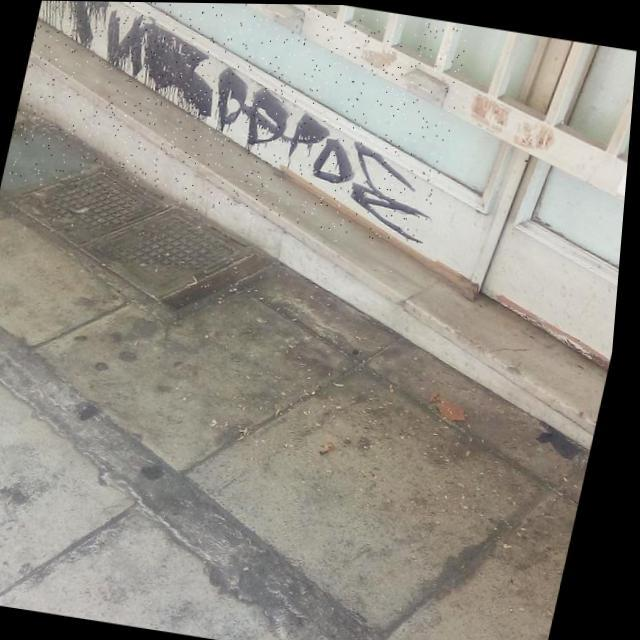-: (1, 1, 473, 246)
